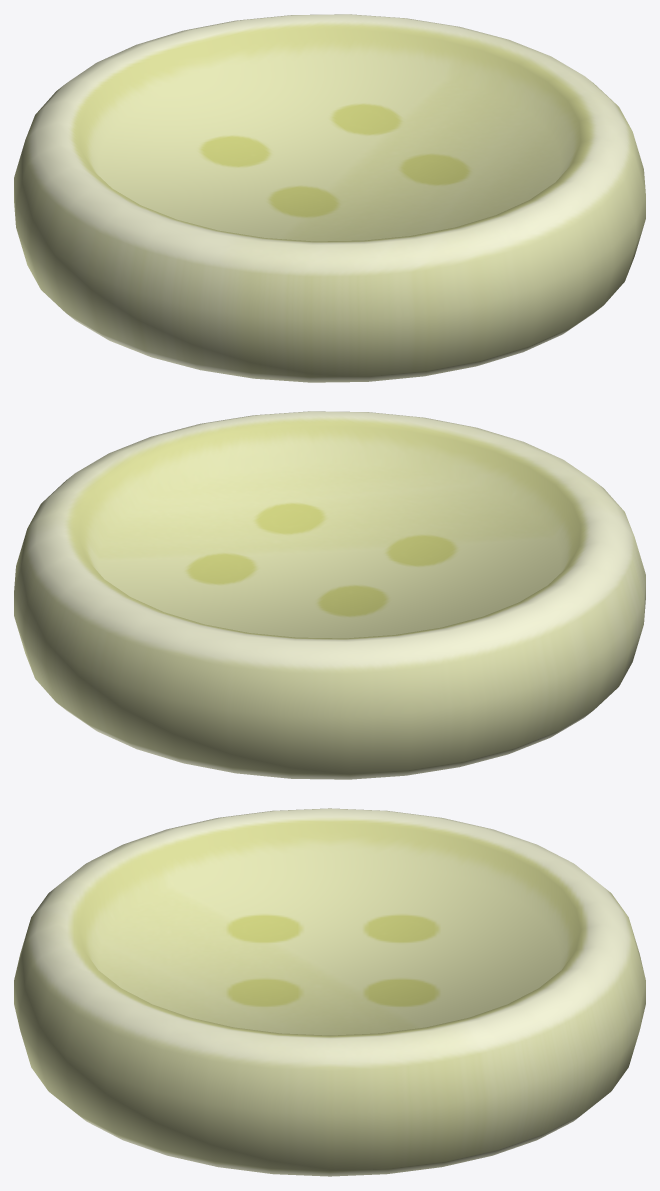
Rendered from yellow_button.glb.
The picture shows the model from 3 angles, top to bottom: view 1: azimuth 30°, elevation 25°; view 2: azimuth 150°, elevation 25°; view 3: azimuth 270°, elevation 25°; orthographic projection.
Parts seen in each view (by area): view 1: Cylinder; view 2: Cylinder; view 3: Cylinder.
Part boxes in pixels (x1=…): Cylinder: x1=14, y1=14, x2=645, y2=382; Cylinder: x1=14, y1=411, x2=645, y2=779; Cylinder: x1=14, y1=808, x2=645, y2=1176.
Bounding box in the file's own units: 2 × 0.4755 × 2.
1 material, 1 textured.
